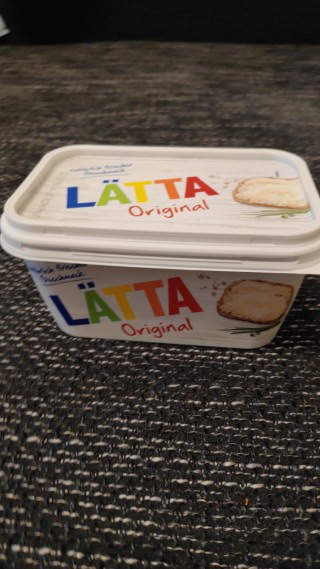laetta: (1, 143, 320, 351)
